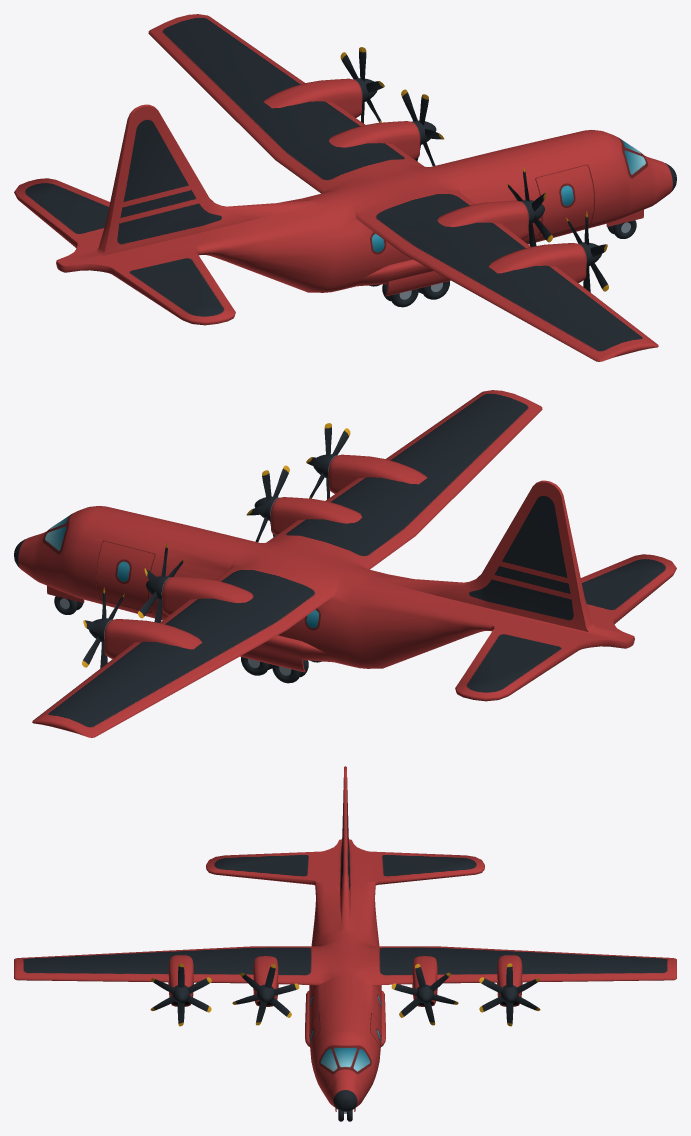
File: PlaneExterior00.fbx
The picture shows the model from 3 angles, top to bottom: view 1: azimuth 30°, elevation 25°; view 2: azimuth 150°, elevation 25°; view 3: azimuth 270°, elevation 25°; orthographic projection. The views are drawn at different scales.
Visible parts, largest first — view 1: PlaneExterior00; view 2: PlaneExterior00; view 3: PlaneExterior00.
Boxes of the visible parts, <box> form: PlaneExterior00: <box>14,14,676,361</box>; PlaneExterior00: <box>14,390,676,737</box>; PlaneExterior00: <box>14,766,676,1121</box>.
Bounding box in the file's own units: 21.76 × 8.39 × 27.73.
